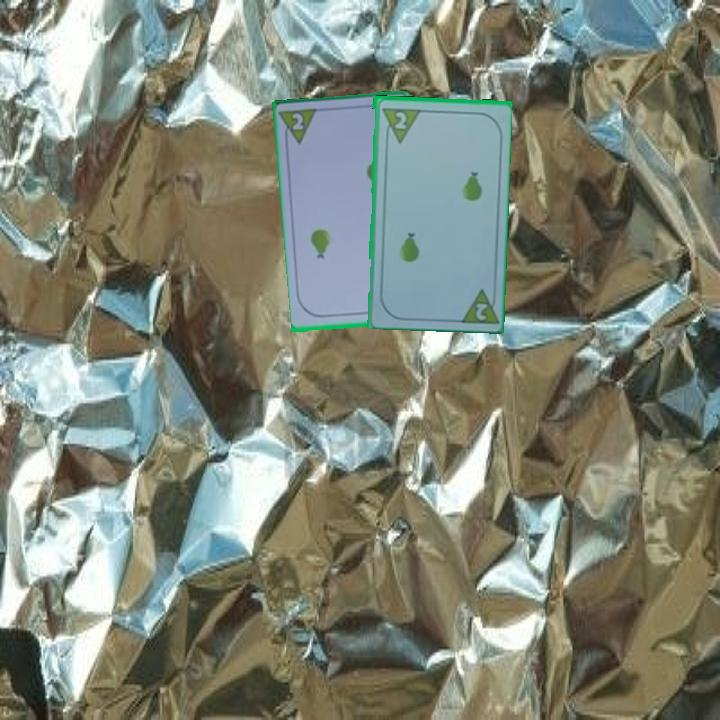2p: (277, 105, 322, 149), (455, 284, 499, 326), (378, 104, 421, 145)
